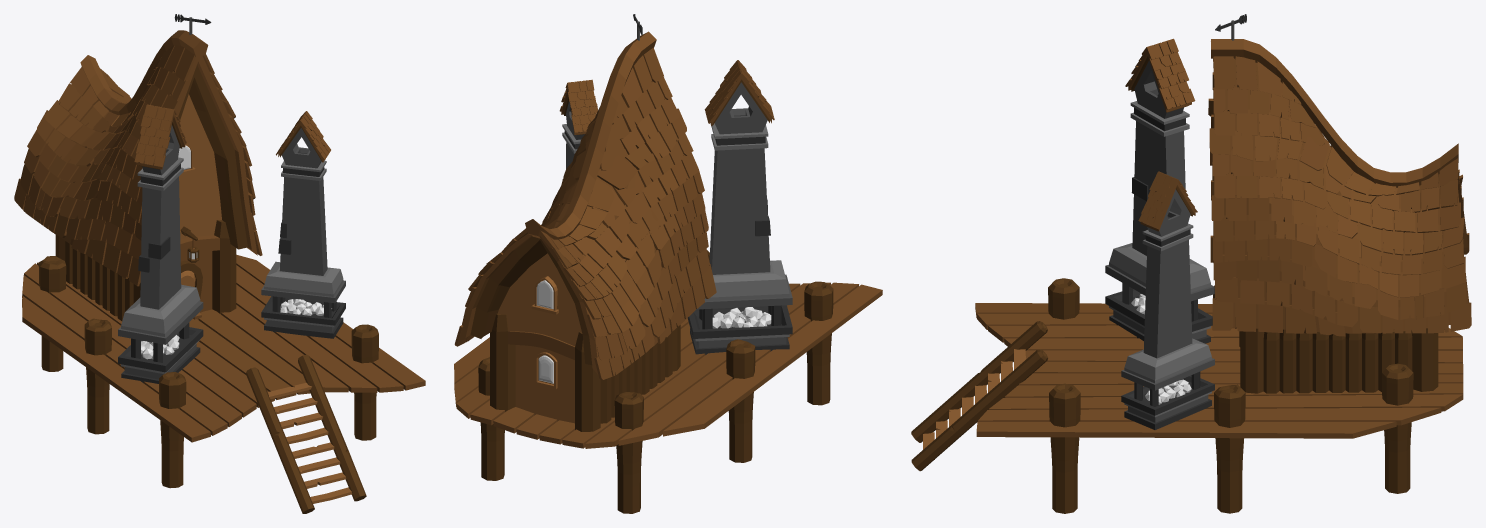
The model's file is A_Blacksmith.fbx.
3 renders of one model, left to right at view 1: azimuth 30°, elevation 25°; view 2: azimuth 150°, elevation 25°; view 3: azimuth 270°, elevation 25°, orthographic. The views are drawn at different scales.
Visible parts, largest first — view 1: A_Blacksmith; view 2: A_Blacksmith; view 3: A_Blacksmith.
Boxes of the visible parts, x1,y1,x2,y2 form: A_Blacksmith: [14, 14, 425, 513]; A_Blacksmith: [454, 14, 882, 513]; A_Blacksmith: [911, 14, 1471, 513].
Bounding box in the file's own units: 516 × 816 × 950.
